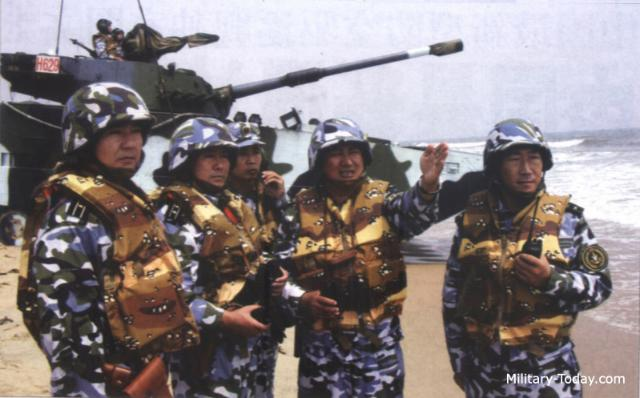other: (18, 99, 154, 393), (446, 122, 584, 396), (153, 118, 273, 392), (284, 124, 404, 396), (227, 120, 285, 224), (92, 16, 112, 57)
tank: (0, 51, 238, 119)
